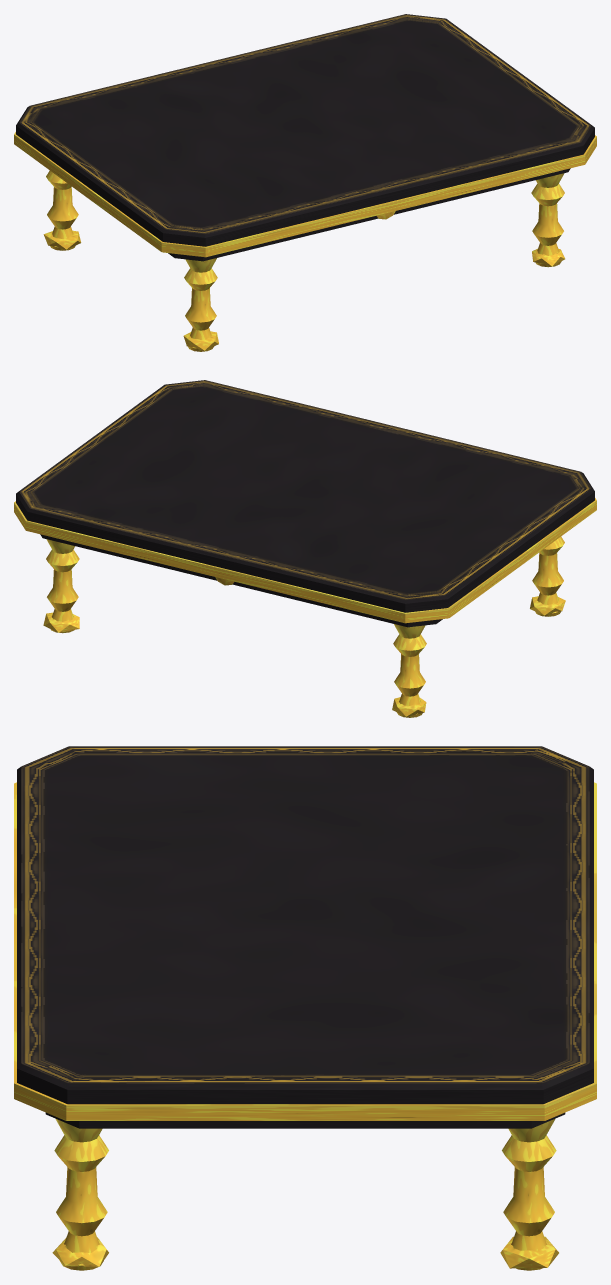
Rendered from Table_Gold.fbx.
3 views of the same model, one above another, from view 1: azimuth 30°, elevation 25°; view 2: azimuth 150°, elevation 25°; view 3: azimuth 270°, elevation 25° (orthographic). The views are drawn at different scales.
Visible parts, largest first — view 1: Table_Gold; view 2: Table_Gold; view 3: Table_Gold.
Boxes of the visible parts, x1,y1,x2,y2 form: Table_Gold: [14, 14, 596, 351]; Table_Gold: [14, 380, 596, 717]; Table_Gold: [14, 746, 596, 1270].
Size of the model in its own units: 5.64 by 1.6 by 4.04.
Materials: 1 (1 with a texture image).
